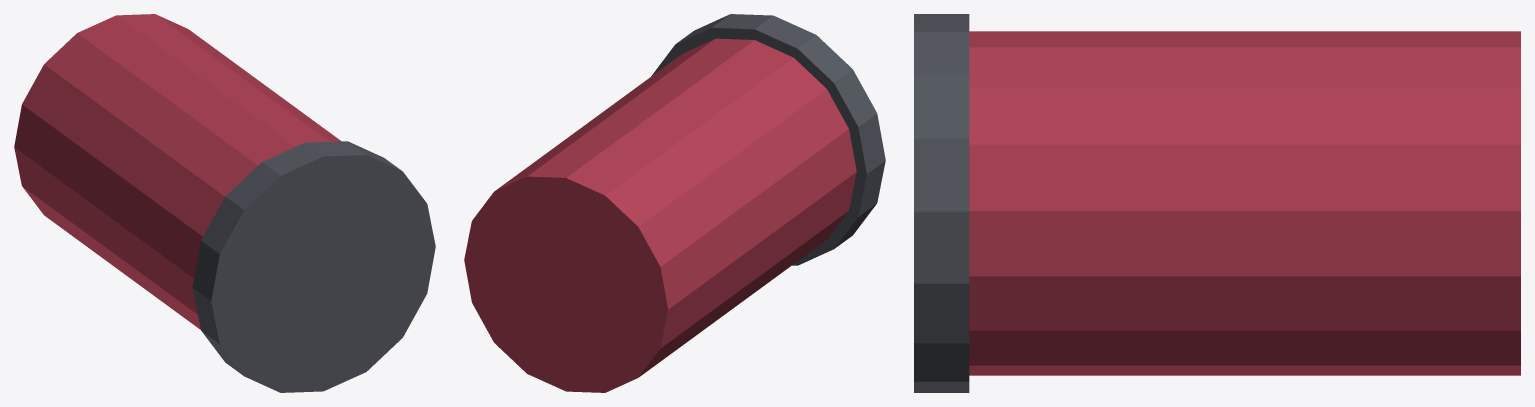
File: barrel_v01.glb
3 renders of one model, left to right at view 1: azimuth 30°, elevation 25°; view 2: azimuth 150°, elevation 25°; view 3: azimuth 270°, elevation 25°, orthographic. The views are drawn at different scales.
Visible parts, largest first — view 1: cylinder_0, cylinder_1; view 2: cylinder_0, cylinder_1; view 3: cylinder_0, cylinder_1.
Part boxes in pixels (x1,y1,x2,y2): cylinder_0: [14, 14, 340, 329]; cylinder_1: [192, 141, 435, 392]; cylinder_0: [464, 38, 856, 392]; cylinder_1: [651, 14, 885, 265]; cylinder_0: [969, 31, 1520, 375]; cylinder_1: [914, 14, 969, 392].
Bounding box in the file's own units: 0.55 × 0.55 × 0.88.
